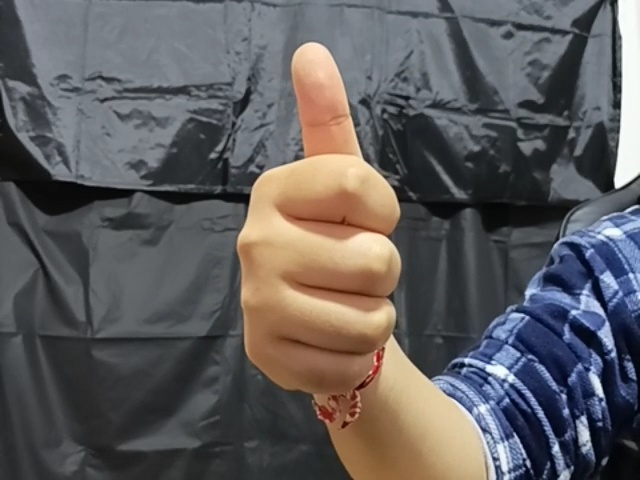A: (229, 36, 403, 389)
